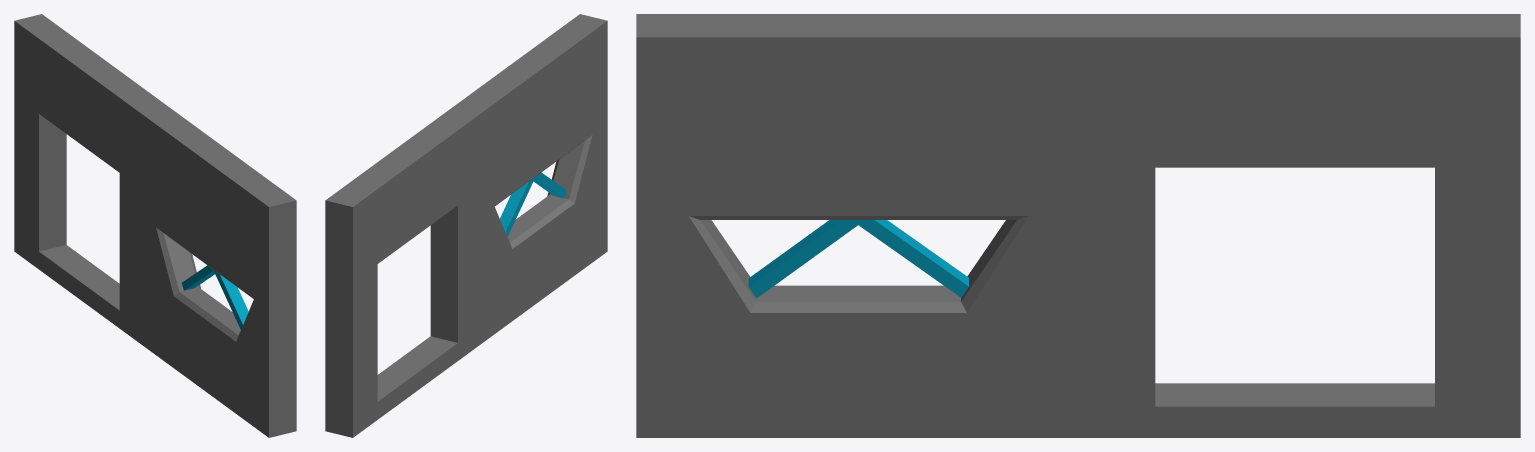
File: SM_B2_Wall2_SM_B2_Wall2.fbx
The picture shows the model from 3 angles, left to right: view 1: azimuth 30°, elevation 25°; view 2: azimuth 150°, elevation 25°; view 3: azimuth 270°, elevation 25°; orthographic projection. The views are drawn at different scales.
Parts seen in each view (by area): view 1: SM_B2_Wall2_SM_B2_Wall2; view 2: SM_B2_Wall2_SM_B2_Wall2; view 3: SM_B2_Wall2_SM_B2_Wall2.
Boxes of the visible parts, x1=… form: SM_B2_Wall2_SM_B2_Wall2: x1=14, y1=14, x2=296, y2=437; SM_B2_Wall2_SM_B2_Wall2: x1=325, y1=14, x2=607, y2=437; SM_B2_Wall2_SM_B2_Wall2: x1=636, y1=14, x2=1520, y2=437.
Size of the model in its own units: 50.77 by 812 by 406.
1 material, 1 textured.
